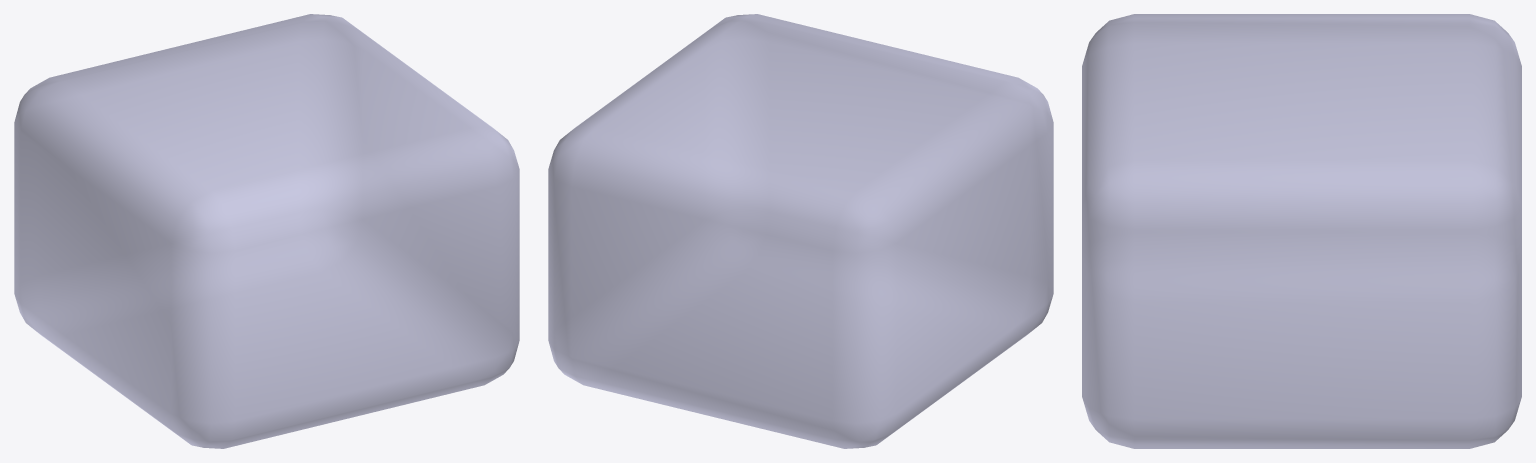
The model's file is Ice.fbx.
3 renders of one model, left to right at view 1: azimuth 30°, elevation 25°; view 2: azimuth 150°, elevation 25°; view 3: azimuth 270°, elevation 25°, orthographic. The views are drawn at different scales.
Parts seen in each view (by area): view 1: Cube; view 2: Cube; view 3: Cube.
Boxes of the visible parts, <box> form: Cube: <box>14,14,519,448</box>; Cube: <box>548,14,1053,448</box>; Cube: <box>1082,14,1521,448</box>.
Size of the model in its own units: 56.1 by 39.96 by 56.1.
